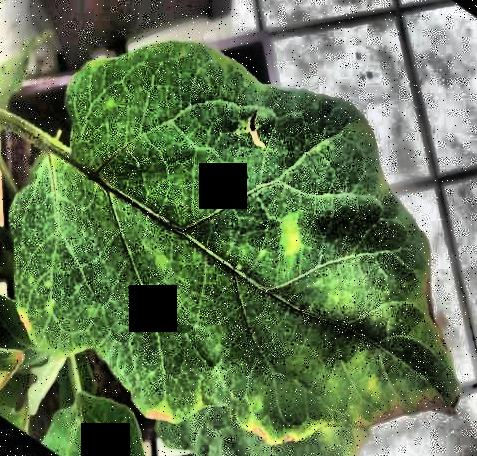Non-critical Stress: (0, 1, 477, 456)
